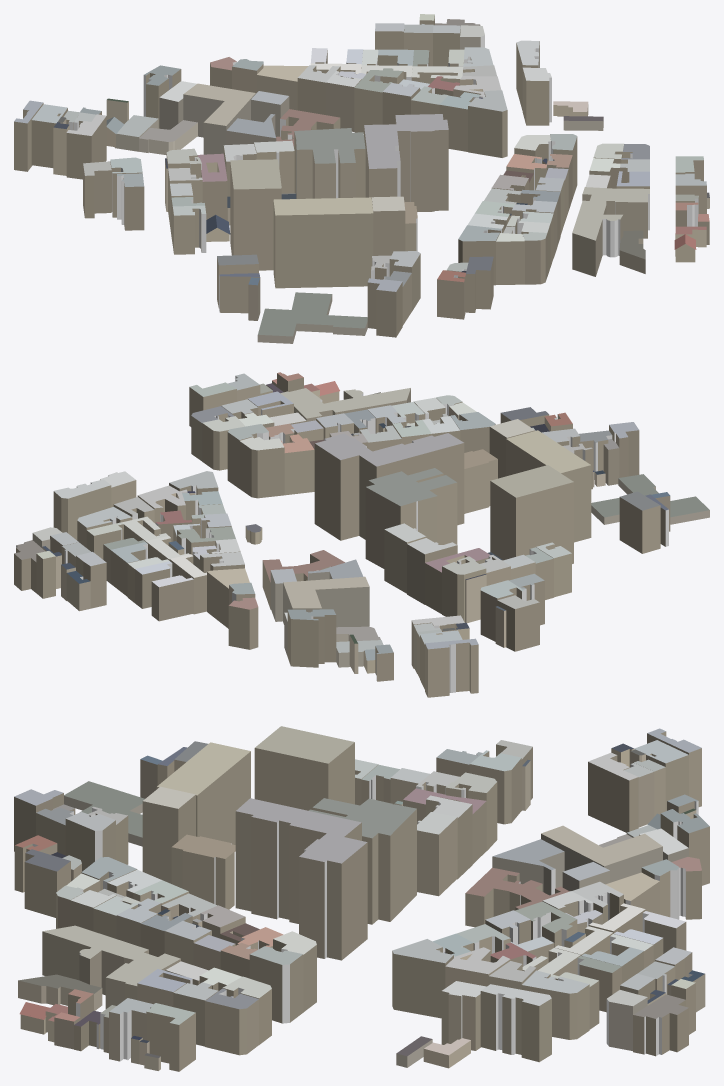
3 views of the same model, one above another, from view 1: azimuth 30°, elevation 25°; view 2: azimuth 150°, elevation 25°; view 3: azimuth 270°, elevation 25° (orthographic). The views are drawn at different scales.
Parts seen in each view (by area): view 1: tuile; view 2: tuile; view 3: tuile.
Part boxes in pixels (left/top/right/bottom): tuile: left=14, top=14, right=709, bottom=343; tuile: left=14, top=372, right=709, bottom=697; tuile: left=14, top=726, right=709, bottom=1071.
Bounding box in the file's own units: 260 × 42.42 × 266.
